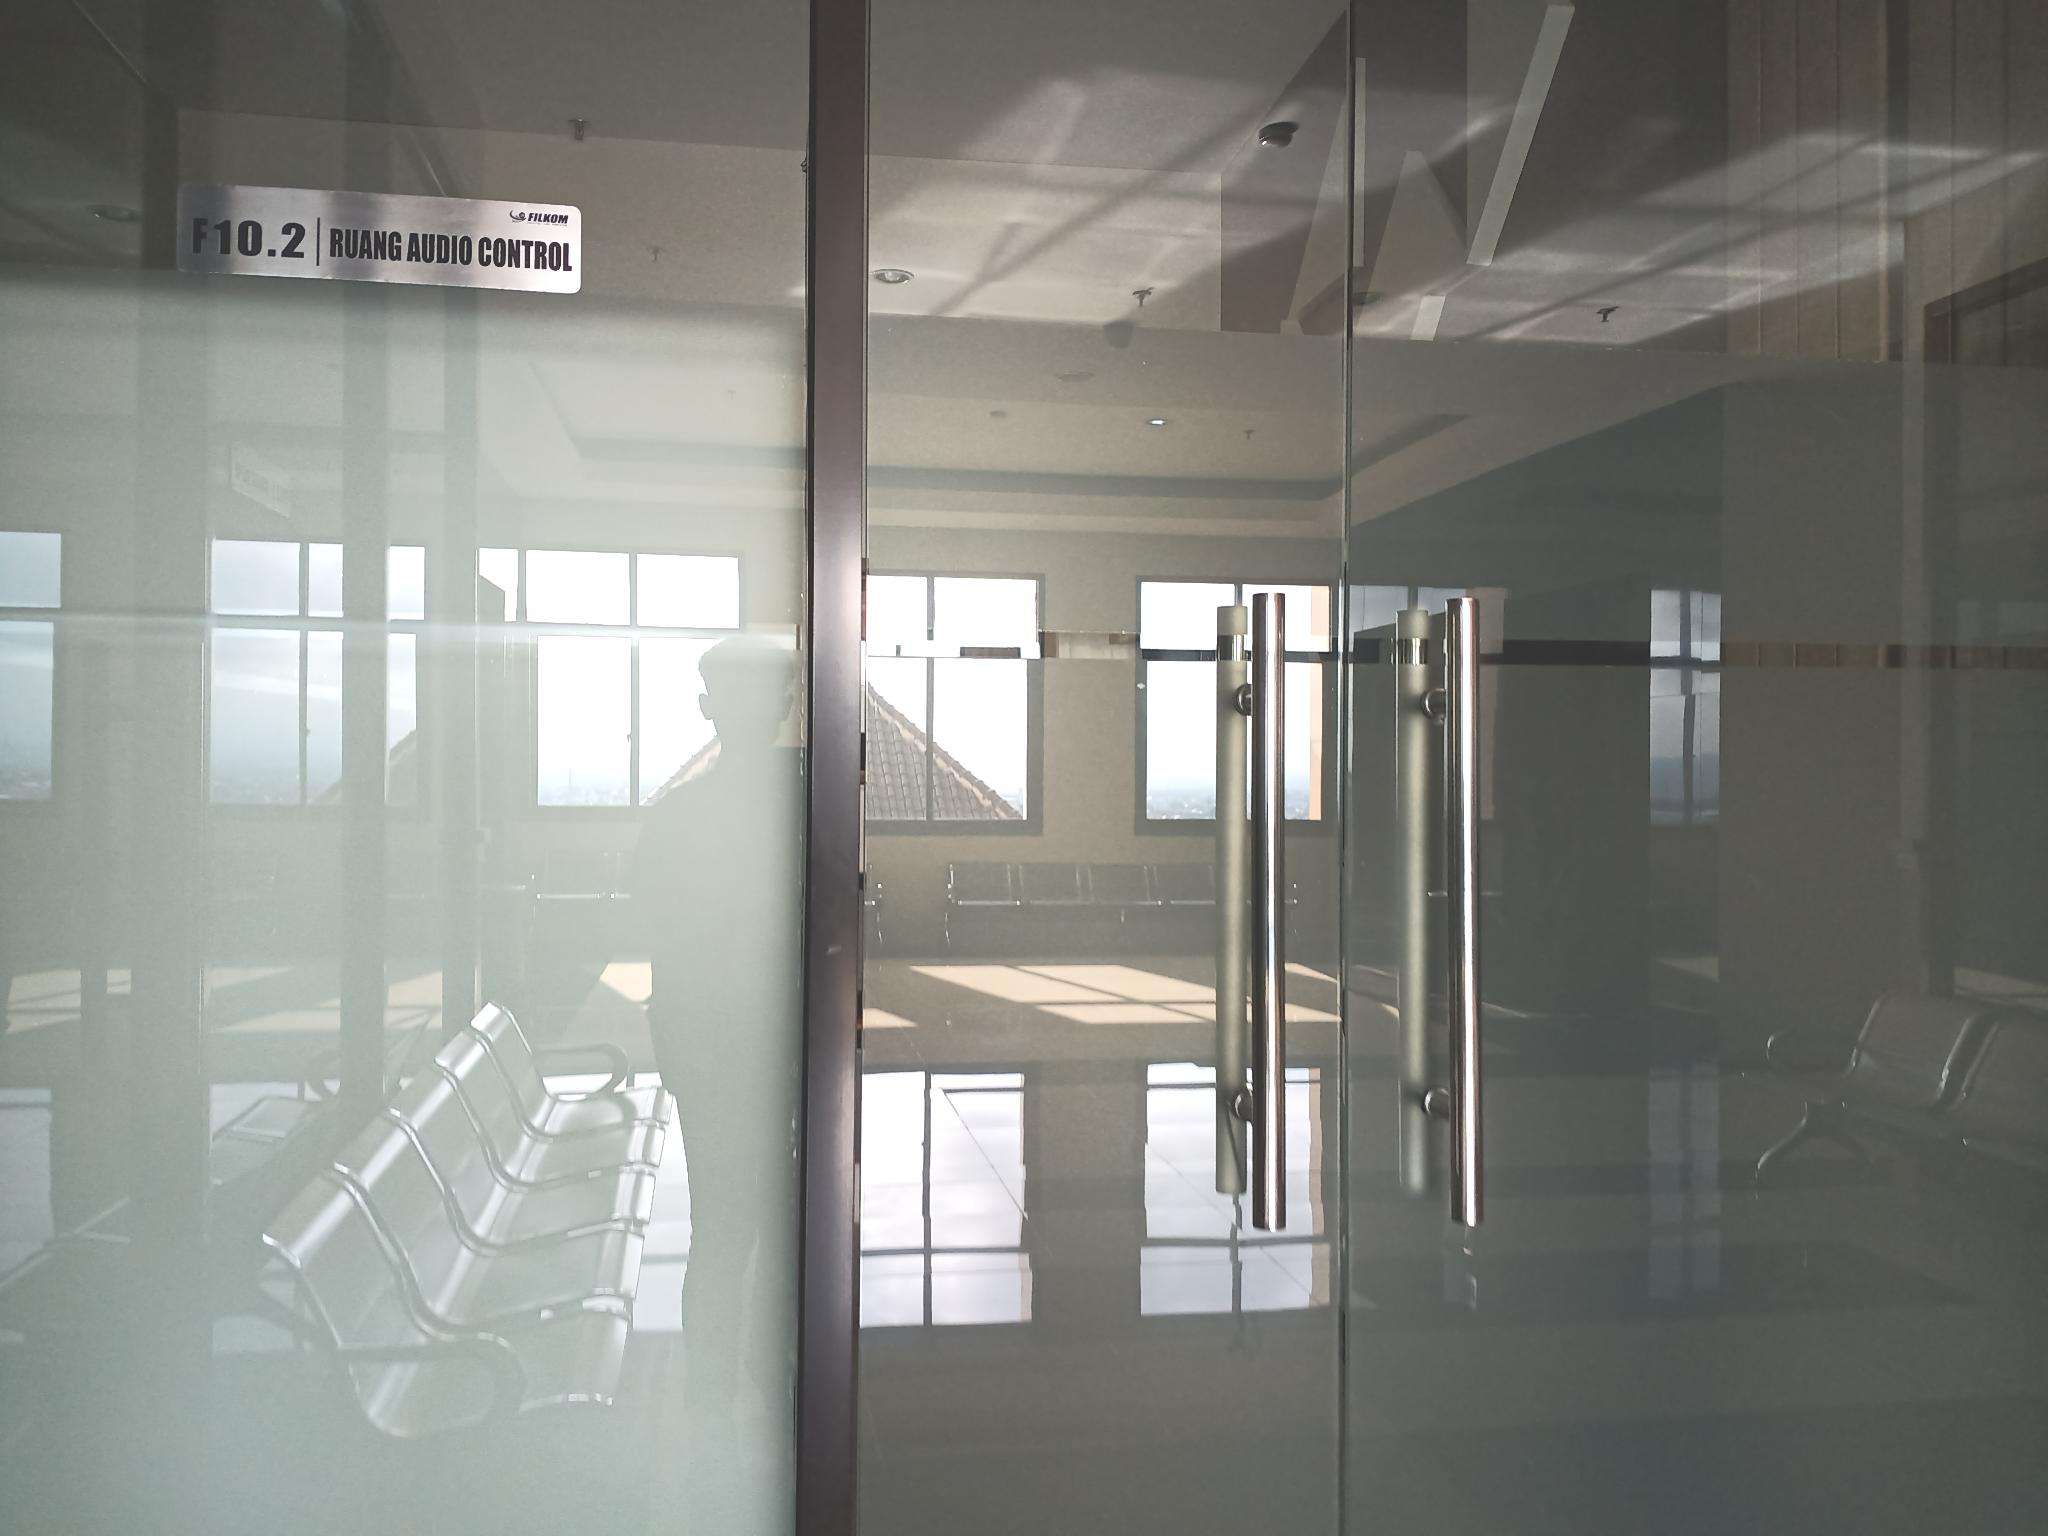plate: (171, 173, 584, 297)
